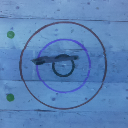Axe Tip: (31, 59, 44, 61)
